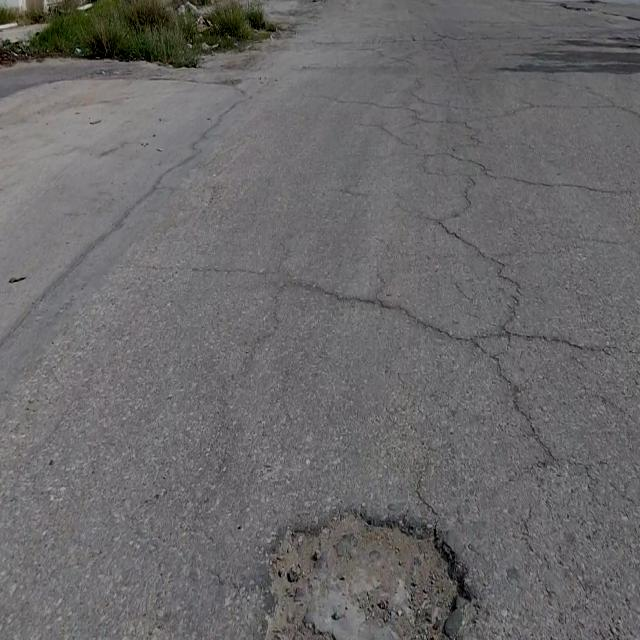Potholes: (261, 502, 472, 640)
